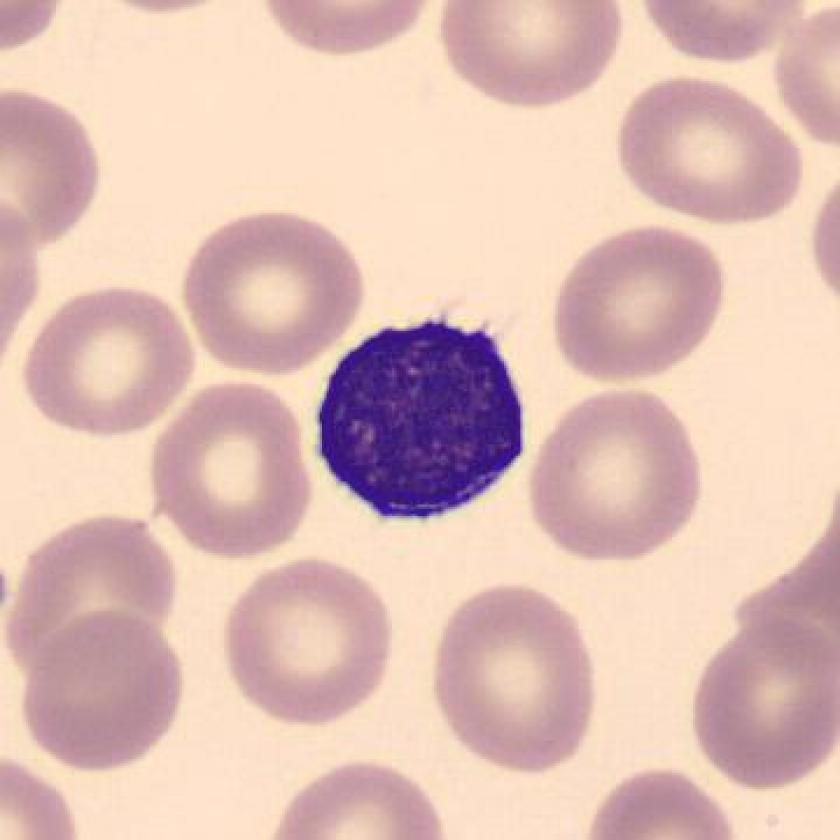lymphocyte: (300, 299, 547, 538)
